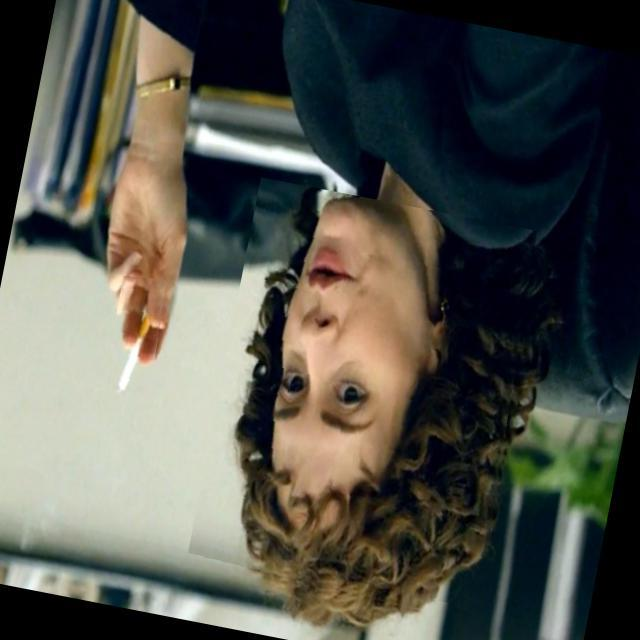cigarette: (94, 272, 174, 437)
